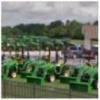tractors: (26, 59, 76, 87), (72, 63, 99, 94), (2, 54, 33, 79)
